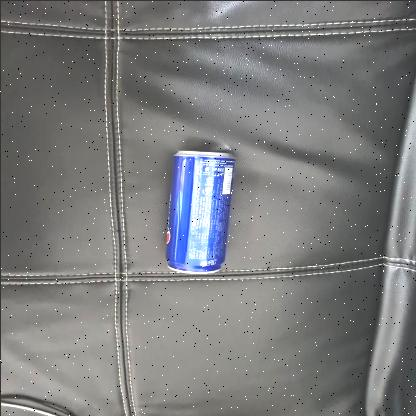Can: (159, 148, 235, 274)
